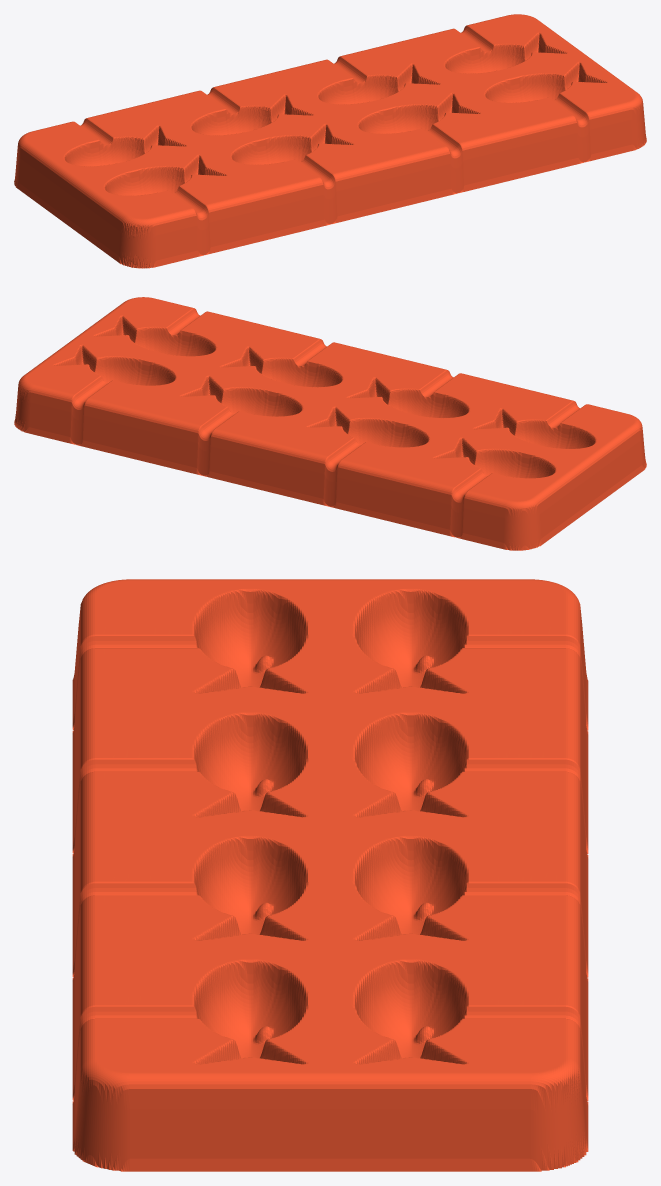
Rendered from mold.glb.
3 renders of one model, top to bottom at view 1: azimuth 30°, elevation 25°; view 2: azimuth 150°, elevation 25°; view 3: azimuth 270°, elevation 25°, orthographic. The views are drawn at different scales.
Parts seen in each view (by area): view 1: geometry_0; view 2: geometry_0; view 3: geometry_0.
Part boxes in pixels (<box>): geometry_0: <box>14,14,646,268</box>; geometry_0: <box>14,297,646,550</box>; geometry_0: <box>72,579,588,1171</box>.
Size of the model in its own units: 0.1907 by 0.0155 by 0.0813.
